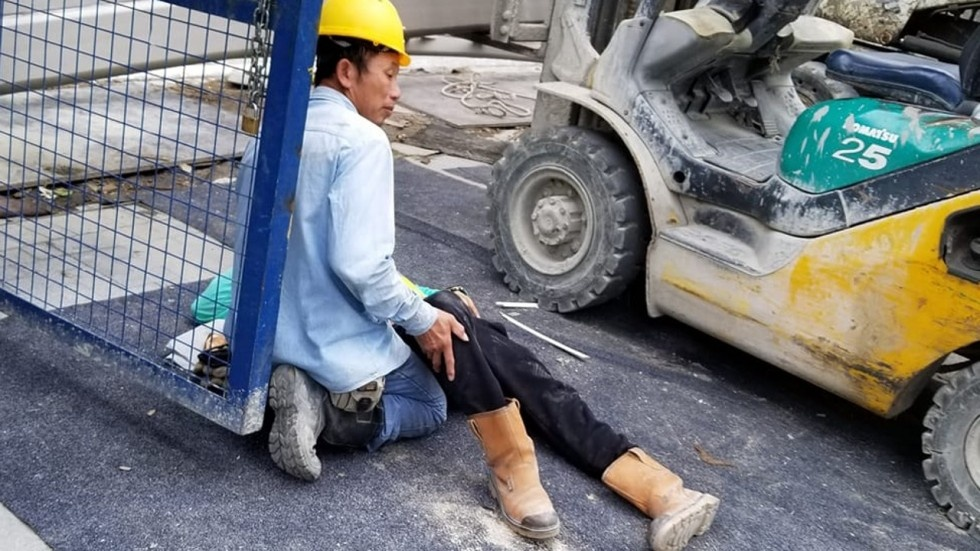yellow: (310, 1, 408, 128)
